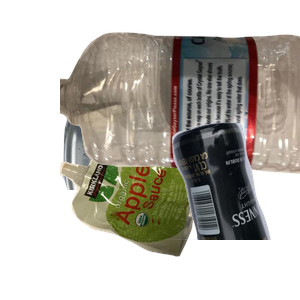glass: (106, 120, 300, 300)
metal: (60, 44, 300, 224)
plastic: (60, 30, 300, 196)
trash: (57, 137, 257, 300)
